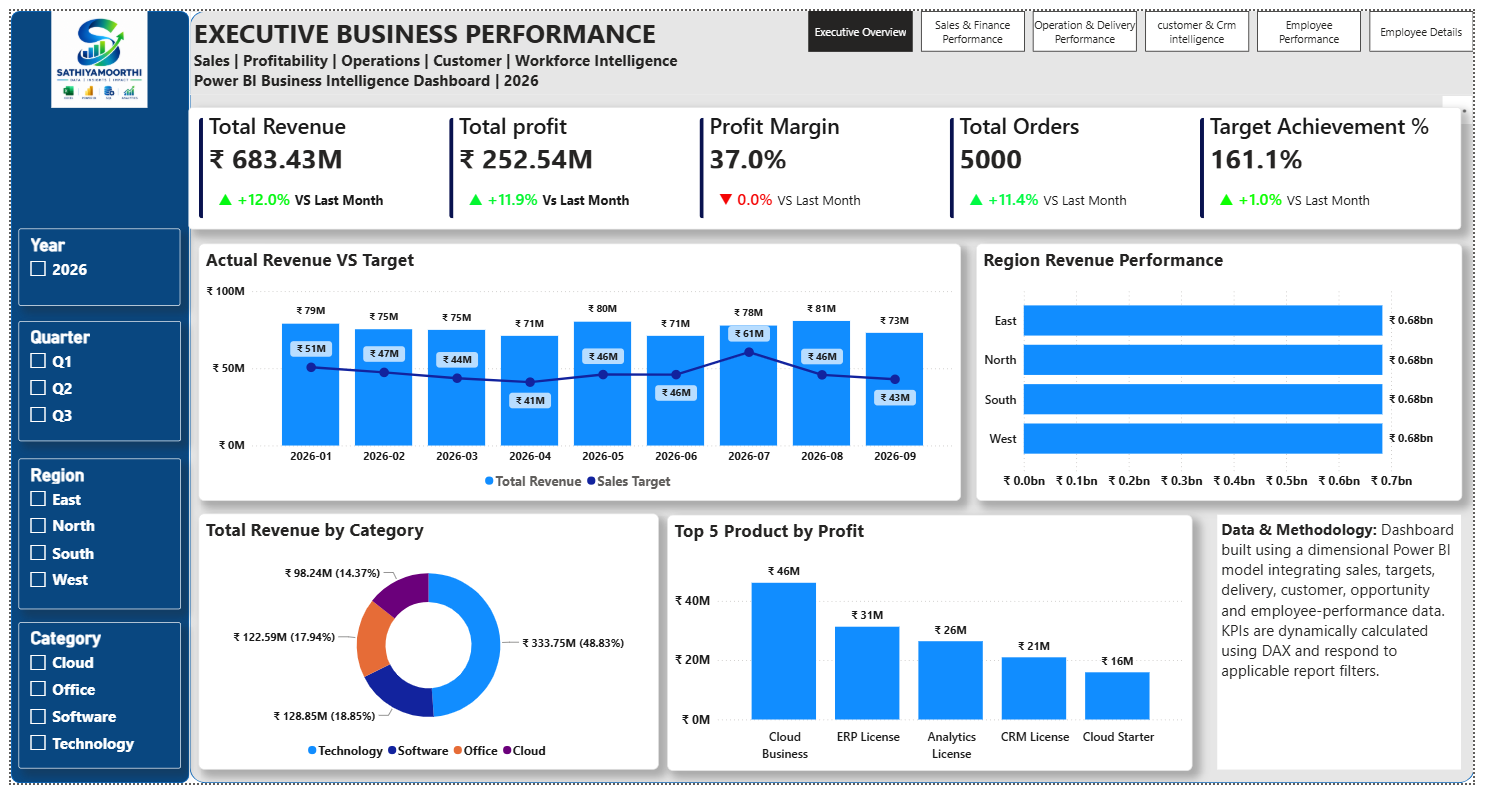

What the dashboard file says about the page in this screenshot:
{"tool":"powerbi","page":{"name":"Executive Overview","canvas":[1800,950],"ordinal":0},"visuals":[{"type":"shape","box":[0,0,219.4,950.3],"z":0},{"type":"shape","box":[219.4,0,1581.2,950.3],"z":1000},{"type":"textbox","box":[220,0,1580,103.3],"z":2000},{"type":"cardVisual","fields":{"Data":["Measure.Total Revenue","Measure.Total profit","Measure.Profit Margin","Measure.Total Orders","Measure.Target Achievement %"]},"box":[218.3,118.3,1566.7,150],"z":3000},{"type":"lineClusteredColumnComboChart","title":"Actual Revenue VS Target ","fields":{"Category":["DimDate.Year_Month"],"Y":["Measure.Total Revenue"],"Y2":["Measure.Sales Target"]},"box":[230,286.7,938.3,316.7],"z":4000},{"type":"clusteredBarChart","title":"Region Revenue Performance","fields":{"Category":["DimRegion.Region"],"Y":["Measure.Total Revenue"]},"box":[1188.3,286.7,598.3,316.7],"z":5000},{"type":"donutChart","fields":{"Category":["DimProduct.Category"],"Y":["Measure.Total Revenue"]},"box":[230,618.3,566.7,315],"z":6000},{"type":"clusteredColumnChart","title":"Top 5 Product by Profit","fields":{"Category":["DimProduct.Product_Name"],"Y":["Measure.Total profit"]},"box":[808.3,620,646.7,315],"z":7000},{"type":"slicer","fields":{"Values":["DimDate.Year"]},"box":[9.8,268.2,199.5,94.8],"z":8000},{"type":"slicer","fields":{"Values":["DimDate.Quarter"]},"box":[9,381.7,199.8,147.6],"z":9000},{"type":"slicer","fields":{"Values":["DimRegion.Region"]},"box":[9,550.9,199.8,185.4],"z":10000},{"type":"slicer","fields":{"Values":["DimProduct.Category"]},"box":[9,752.6,199.8,180],"z":11000},{"type":"image","box":[0,0,217.8,118.8],"z":12000},{"type":"pageNavigator","box":[982,0,818,50],"z":13000},{"type":"textbox","box":[1485,620,300,313.3],"z":13001}]}

Visuals, with their boxes in screenshot pixels (x1, y1, x2, y2), scaled from the page's 1800x950 canvas onto the 1488x797 screenshot:
shape: crop(0, 0, 181, 796)
shape: crop(181, 0, 1487, 796)
textbox: crop(182, 0, 1487, 87)
cardVisual - Measure.Total Revenue x Measure.Total profit: crop(180, 99, 1476, 225)
"Actual Revenue VS Target " lineClusteredColumnComboChart: crop(190, 241, 966, 506)
"Region Revenue Performance" clusteredBarChart: crop(982, 241, 1477, 506)
donutChart - DimProduct.Category x Measure.Total Revenue: crop(190, 519, 659, 783)
"Top 5 Product by Profit" clusteredColumnChart: crop(668, 520, 1203, 784)
slicer - DimDate.Year: crop(8, 225, 173, 305)
slicer - DimDate.Quarter: crop(7, 320, 173, 444)
slicer - DimRegion.Region: crop(7, 462, 173, 618)
slicer - DimProduct.Category: crop(7, 631, 173, 782)
image: crop(0, 0, 180, 100)
pageNavigator: crop(812, 0, 1487, 42)
textbox: crop(1228, 520, 1476, 783)
